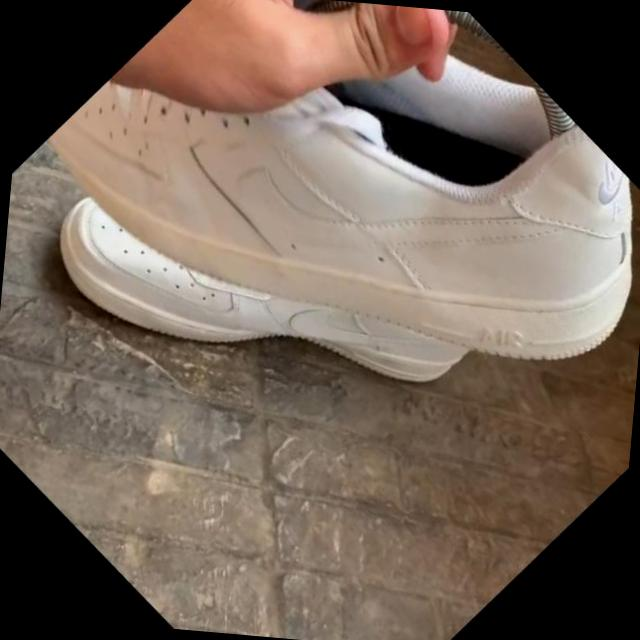nike_original_airforce: (13, 0, 640, 545)
